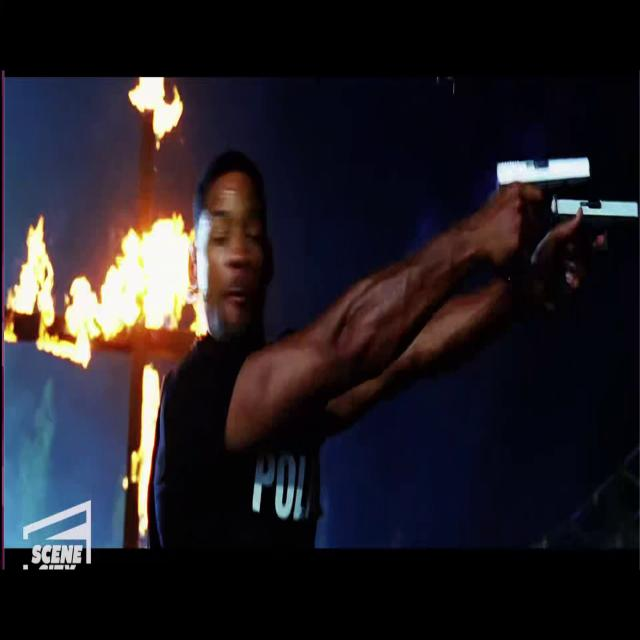weapons: (483, 134, 594, 250), (546, 168, 640, 296)
